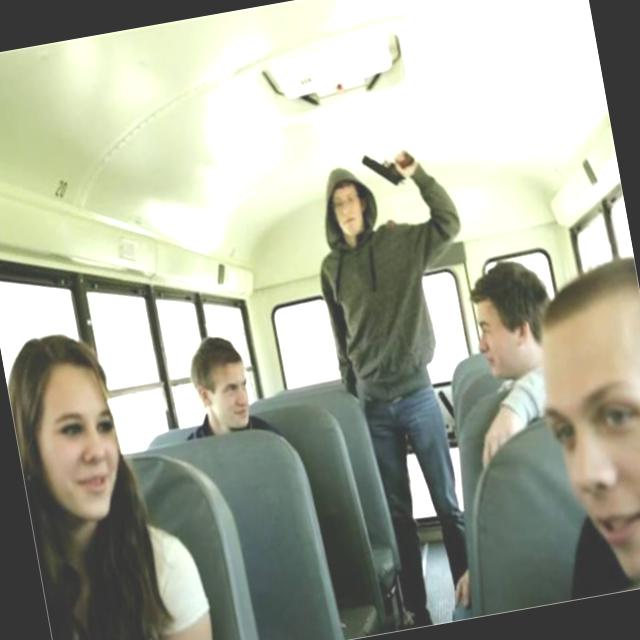handgun: (358, 144, 416, 190)
